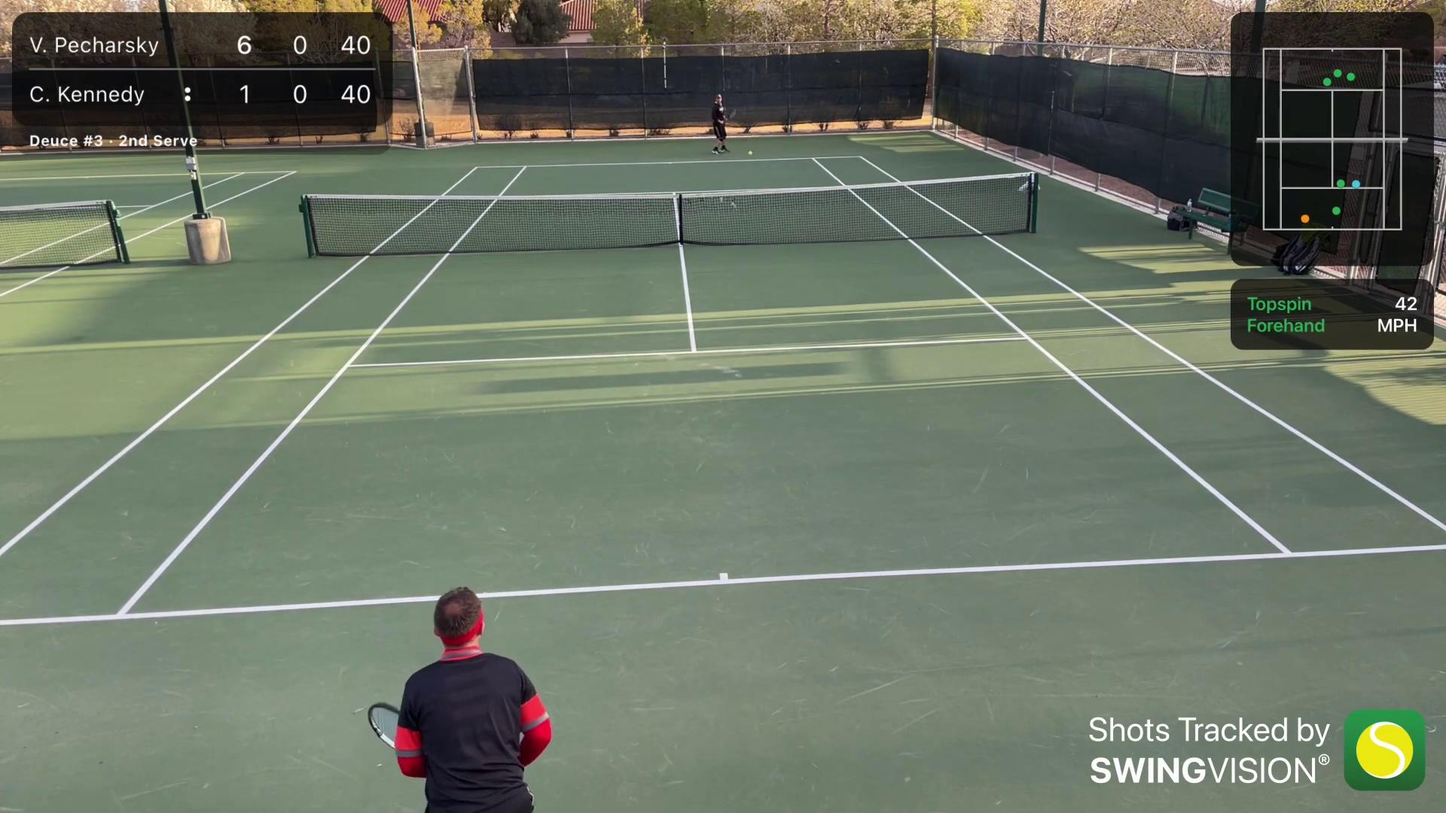ball: (747, 150, 754, 157)
